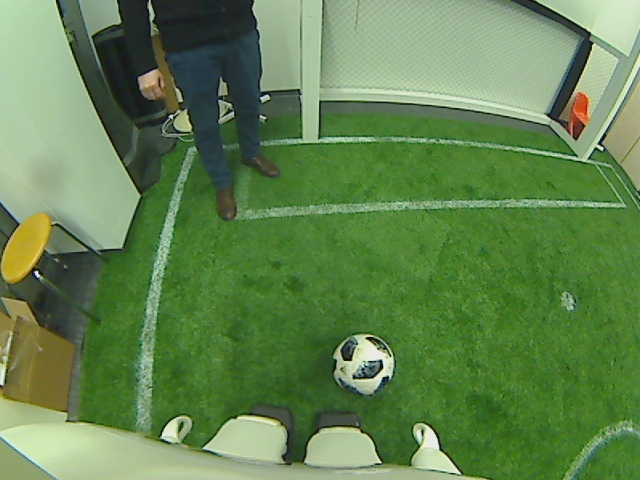ball: (329, 331, 394, 397)
